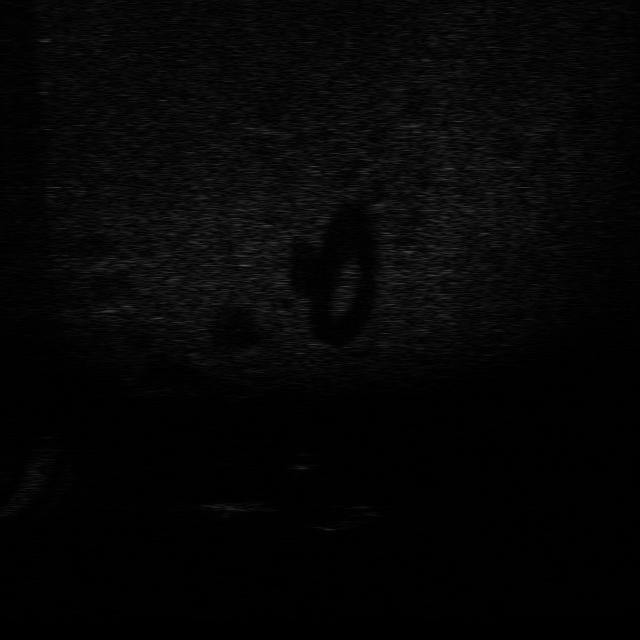ball: (276, 446, 322, 473)
square cage: (198, 490, 272, 521)
tyre: (310, 499, 379, 535)
